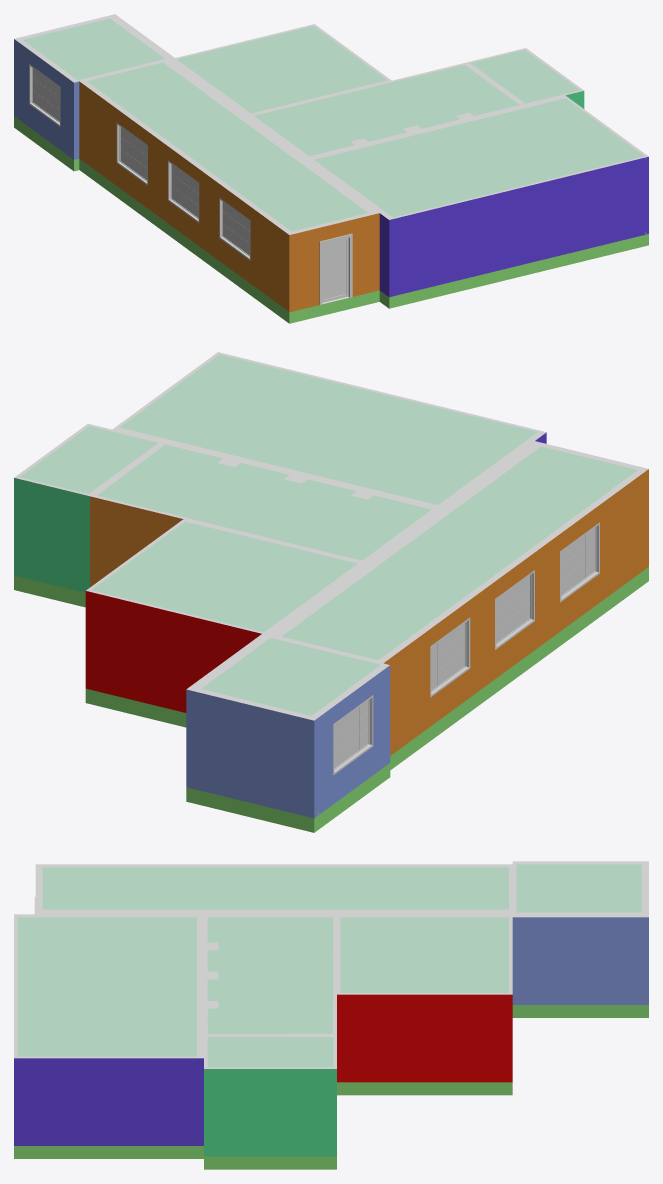
The model's file is Full House Architecture.fbx.
3 renders of one model, top to bottom at view 1: azimuth 30°, elevation 25°; view 2: azimuth 150°, elevation 25°; view 3: azimuth 270°, elevation 25°, orthographic. The views are drawn at different scales.
Visible parts, largest first — view 1: Hallway_Ceiling, Living Room_OccluderWall.001, Living Room_ceiling, Hallway_OccluderWall.002, Kitchen_Ceiling, Bedroom_Ceiling, Bedroom_OccluderWall.002, Hallway.001, Hallway.002, Living Room.004, Bathroom_Ceiling, Door1.004 (+14 smaller); view 2: Hallway_Ceiling, Living Room_ceiling, Hallway_OccluderWall.002, Kitchen_Ceiling, Bedroom.003, Kitchen.003, Bedroom_Ceiling, Bathroom.003, Hallway.001, Bedroom_OccluderWall.002, Bathroom_Ceiling, Hallway.003 (+15 smaller); view 3: Hallway_Ceiling, Living Room_ceiling, Living Room.001, Kitchen.003, Kitchen_Ceiling, Bedroom.003, Bathroom.003, Bedroom_Ceiling, Hallway.001, Bathroom_Ceiling, Living Room.004, Kitchen.002 (+9 smaller).
Boxes of the visible parts, <box> form: Hallway_Ceiling: <box>87,62,519,231</box>; Living Room_OccluderWall.001: <box>379,157,646,297</box>; Living Room_ceiling: <box>314,98,644,217</box>; Hallway_OccluderWall.002: <box>81,83,371,312</box>; Kitchen_Ceiling: <box>177,26,387,113</box>; Bedroom_Ceiling: <box>23,18,164,79</box>; Bedroom_OccluderWall.002: <box>17,41,79,159</box>; Hallway.001: <box>80,59,523,214</box>; Hallway.002: <box>79,159,379,323</box>; Living Room.004: <box>379,234,648,308</box>; Bathroom_Ceiling: <box>470,50,579,103</box>; Door1.004: <box>322,237,348,302</box>; Hallway_Ceiling: <box>97,444,637,659</box>; Living Room_ceiling: <box>120,354,537,504</box>; Hallway_OccluderWall.002: <box>385,469,648,755</box>; Kitchen_Ceiling: <box>91,521,357,632</box>; Bedroom.003: <box>186,689,318,818</box>; Kitchen.003: <box>85,591,261,712</box>; Bedroom_Ceiling: <box>201,638,380,715</box>; Bathroom.003: <box>14,478,89,592</box>; Hallway.001: <box>90,441,544,663</box>; Bedroom_OccluderWall.002: <box>318,665,390,814</box>; Bathroom_Ceiling: <box>20,426,158,493</box>; Hallway.003: <box>90,496,385,663</box>; Hallway_Ceiling: <box>42,867,508,1033</box>; Living Room_ceiling: <box>17,917,196,1056</box>; Living Room.001: <box>14,1058,203,1145</box>; Kitchen.003: <box>337,994,512,1082</box>; Kitchen_Ceiling: <box>340,917,508,992</box>; Bedroom.003: <box>512,917,648,1004</box>; Bathroom.003: <box>204,1069,336,1156</box>; Bedroom_Ceiling: <box>516,864,641,912</box>; Hallway.001: <box>35,864,512,1035</box>; Bathroom_Ceiling: <box>207,1037,333,1067</box>; Living Room.004: <box>14,1146,203,1158</box>; Kitchen.002: <box>337,1082,512,1095</box>.
Size of the model in its own units: 1770 by 1370 by 310.
